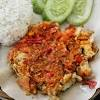ayam_geprek: (10, 26, 94, 94)
